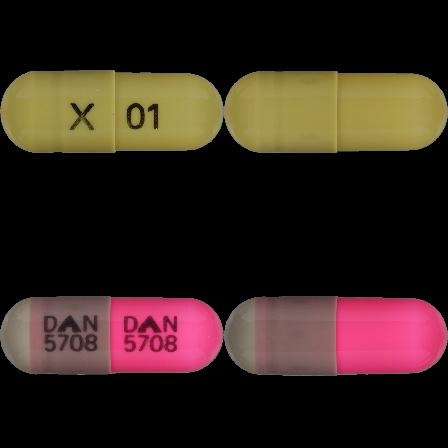0179-0144: (0, 0, 224, 224)
